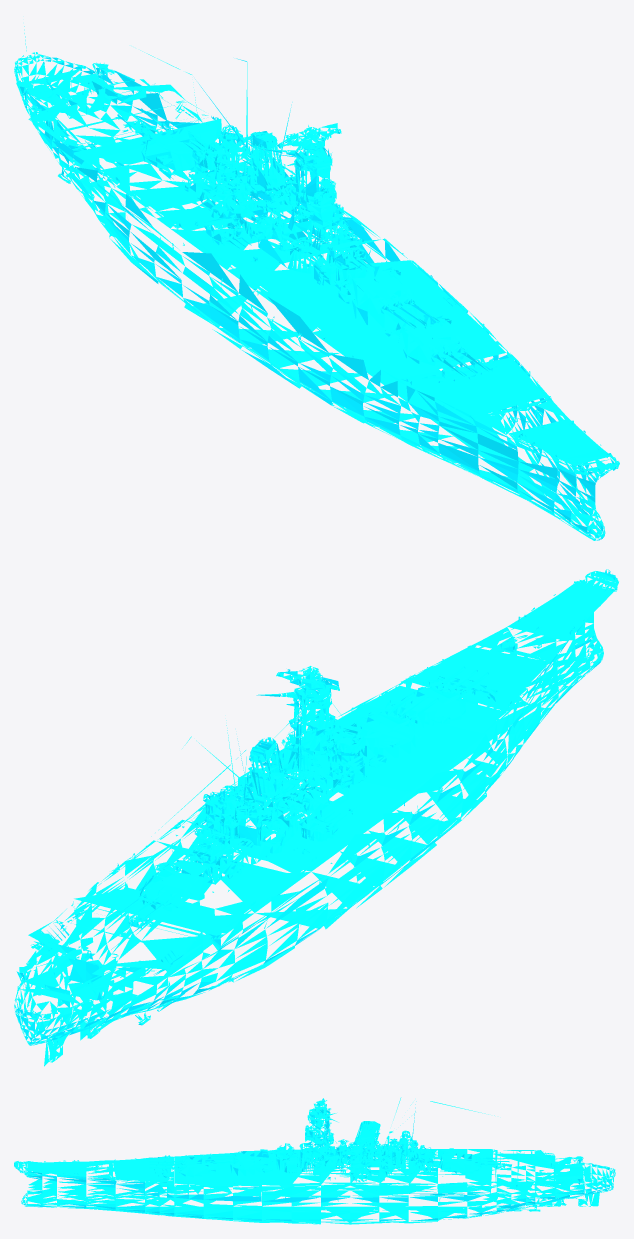
File: Musashi.glb
3 views of the same model, one above another, from view 1: azimuth 30°, elevation 25°; view 2: azimuth 150°, elevation 25°; view 3: azimuth 270°, elevation 25° (orthographic). The views are drawn at different scales.
Size of the model in its own units: 2.63 by 3.52 by 17.65.
